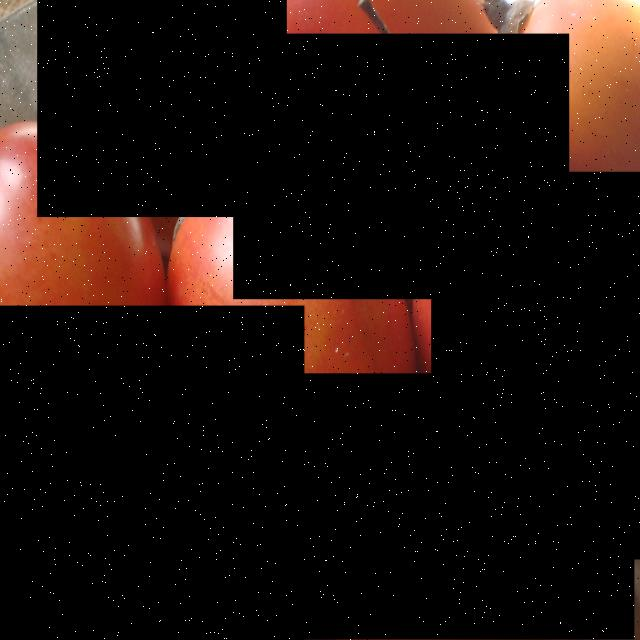Tree_Tomato: (0, 305, 304, 640), (233, 34, 569, 299), (302, 373, 634, 640), (431, 172, 640, 560), (37, 0, 287, 217)
